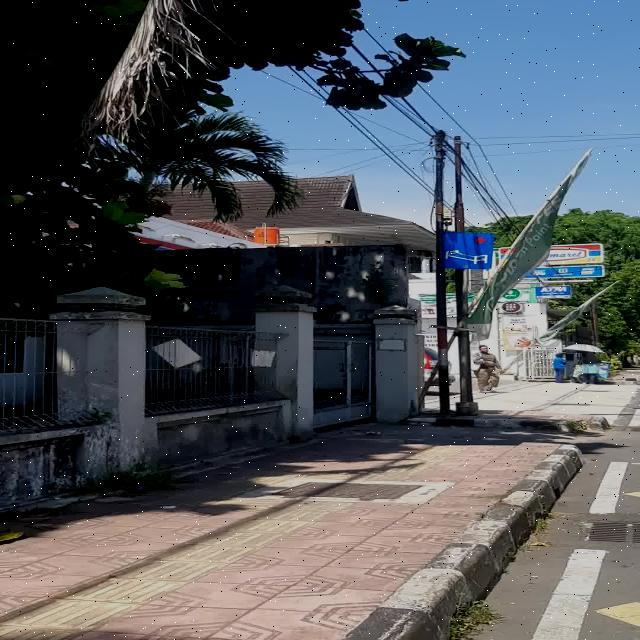Rumah Sakit: (444, 232, 494, 270)
